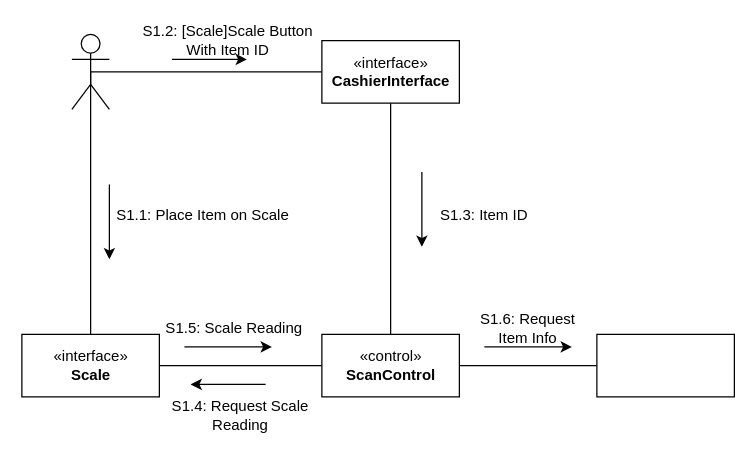
Image size: 756x455. Some labels were removed from this diagram. The shapes that lost their labels are listed below. From the top down, each one's box as (x1, y1, x2, y2) in pixels, then its label:
(71, 33, 109, 109): Cashier
(596, 333, 734, 397): «interface» Item Inventory
